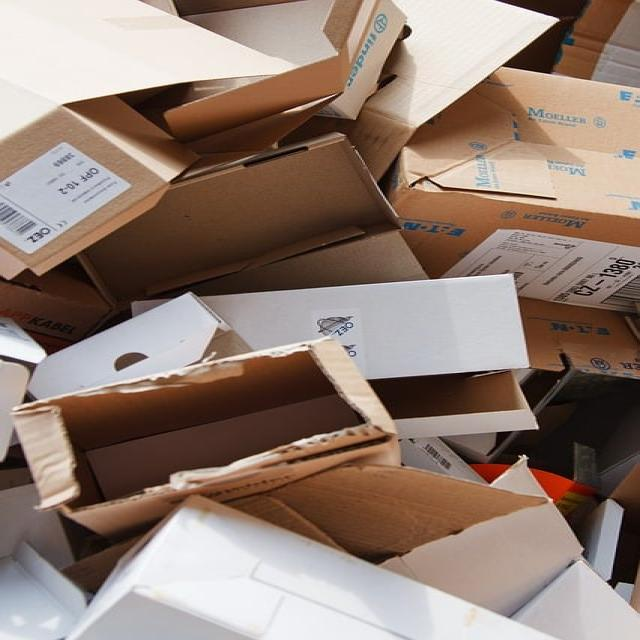cardboard: (0, 281, 532, 517), (38, 501, 620, 640), (410, 64, 640, 315), (183, 0, 544, 158), (0, 0, 204, 270), (62, 139, 420, 288)
